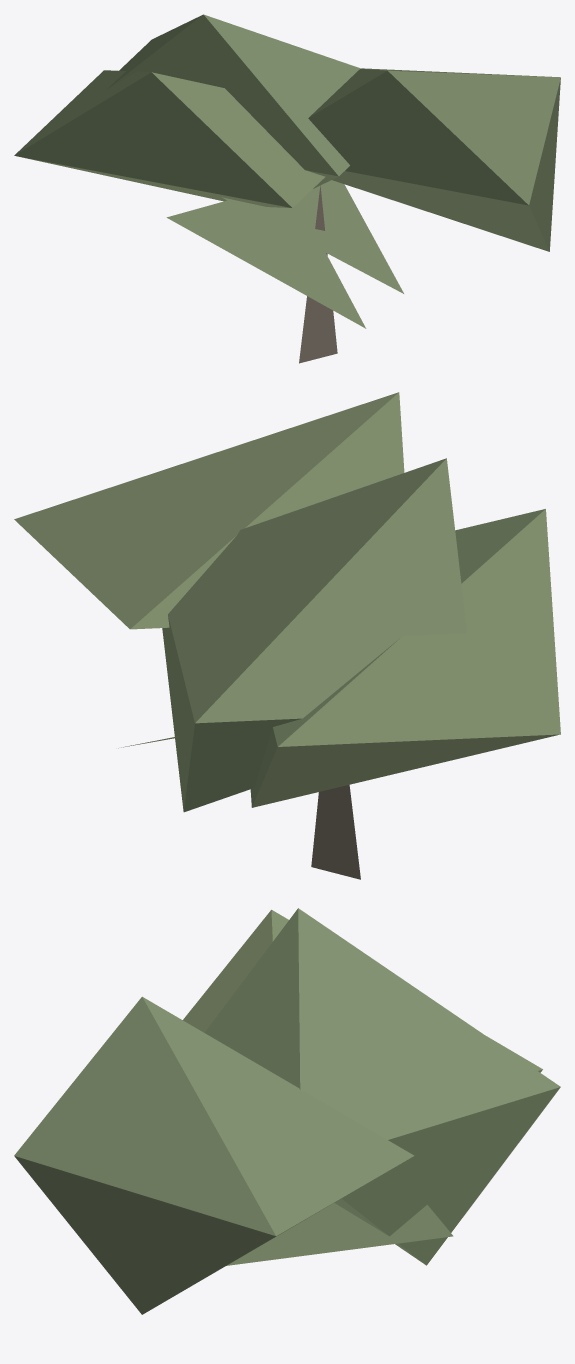
Rendered from bush_a_LOD2.fbx.
3 renders of one model, top to bottom at view 1: azimuth 30°, elevation 25°; view 2: azimuth 150°, elevation 25°; view 3: azimuth 270°, elevation 25°, orthographic. The views are drawn at different scales.
Visible parts, largest first — view 1: bush_a_LOD2; view 2: bush_a_LOD2; view 3: bush_a_LOD2.
Boxes of the visible parts, bbox=[...] form: bush_a_LOD2: bbox=[14, 14, 560, 363]; bush_a_LOD2: bbox=[14, 392, 560, 879]; bush_a_LOD2: bbox=[14, 908, 560, 1314].
Size of the model in its own units: 177 by 125 by 162.
